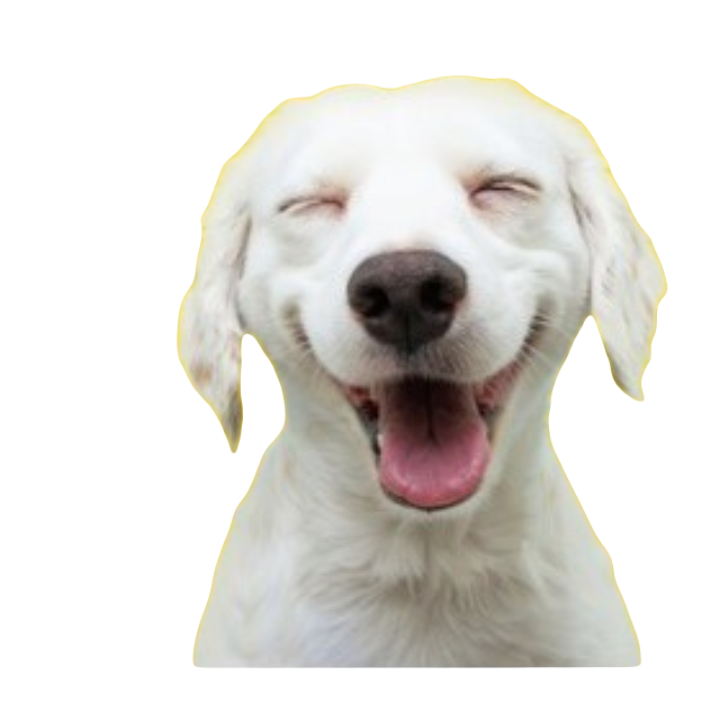Dog: (168, 70, 667, 675)
